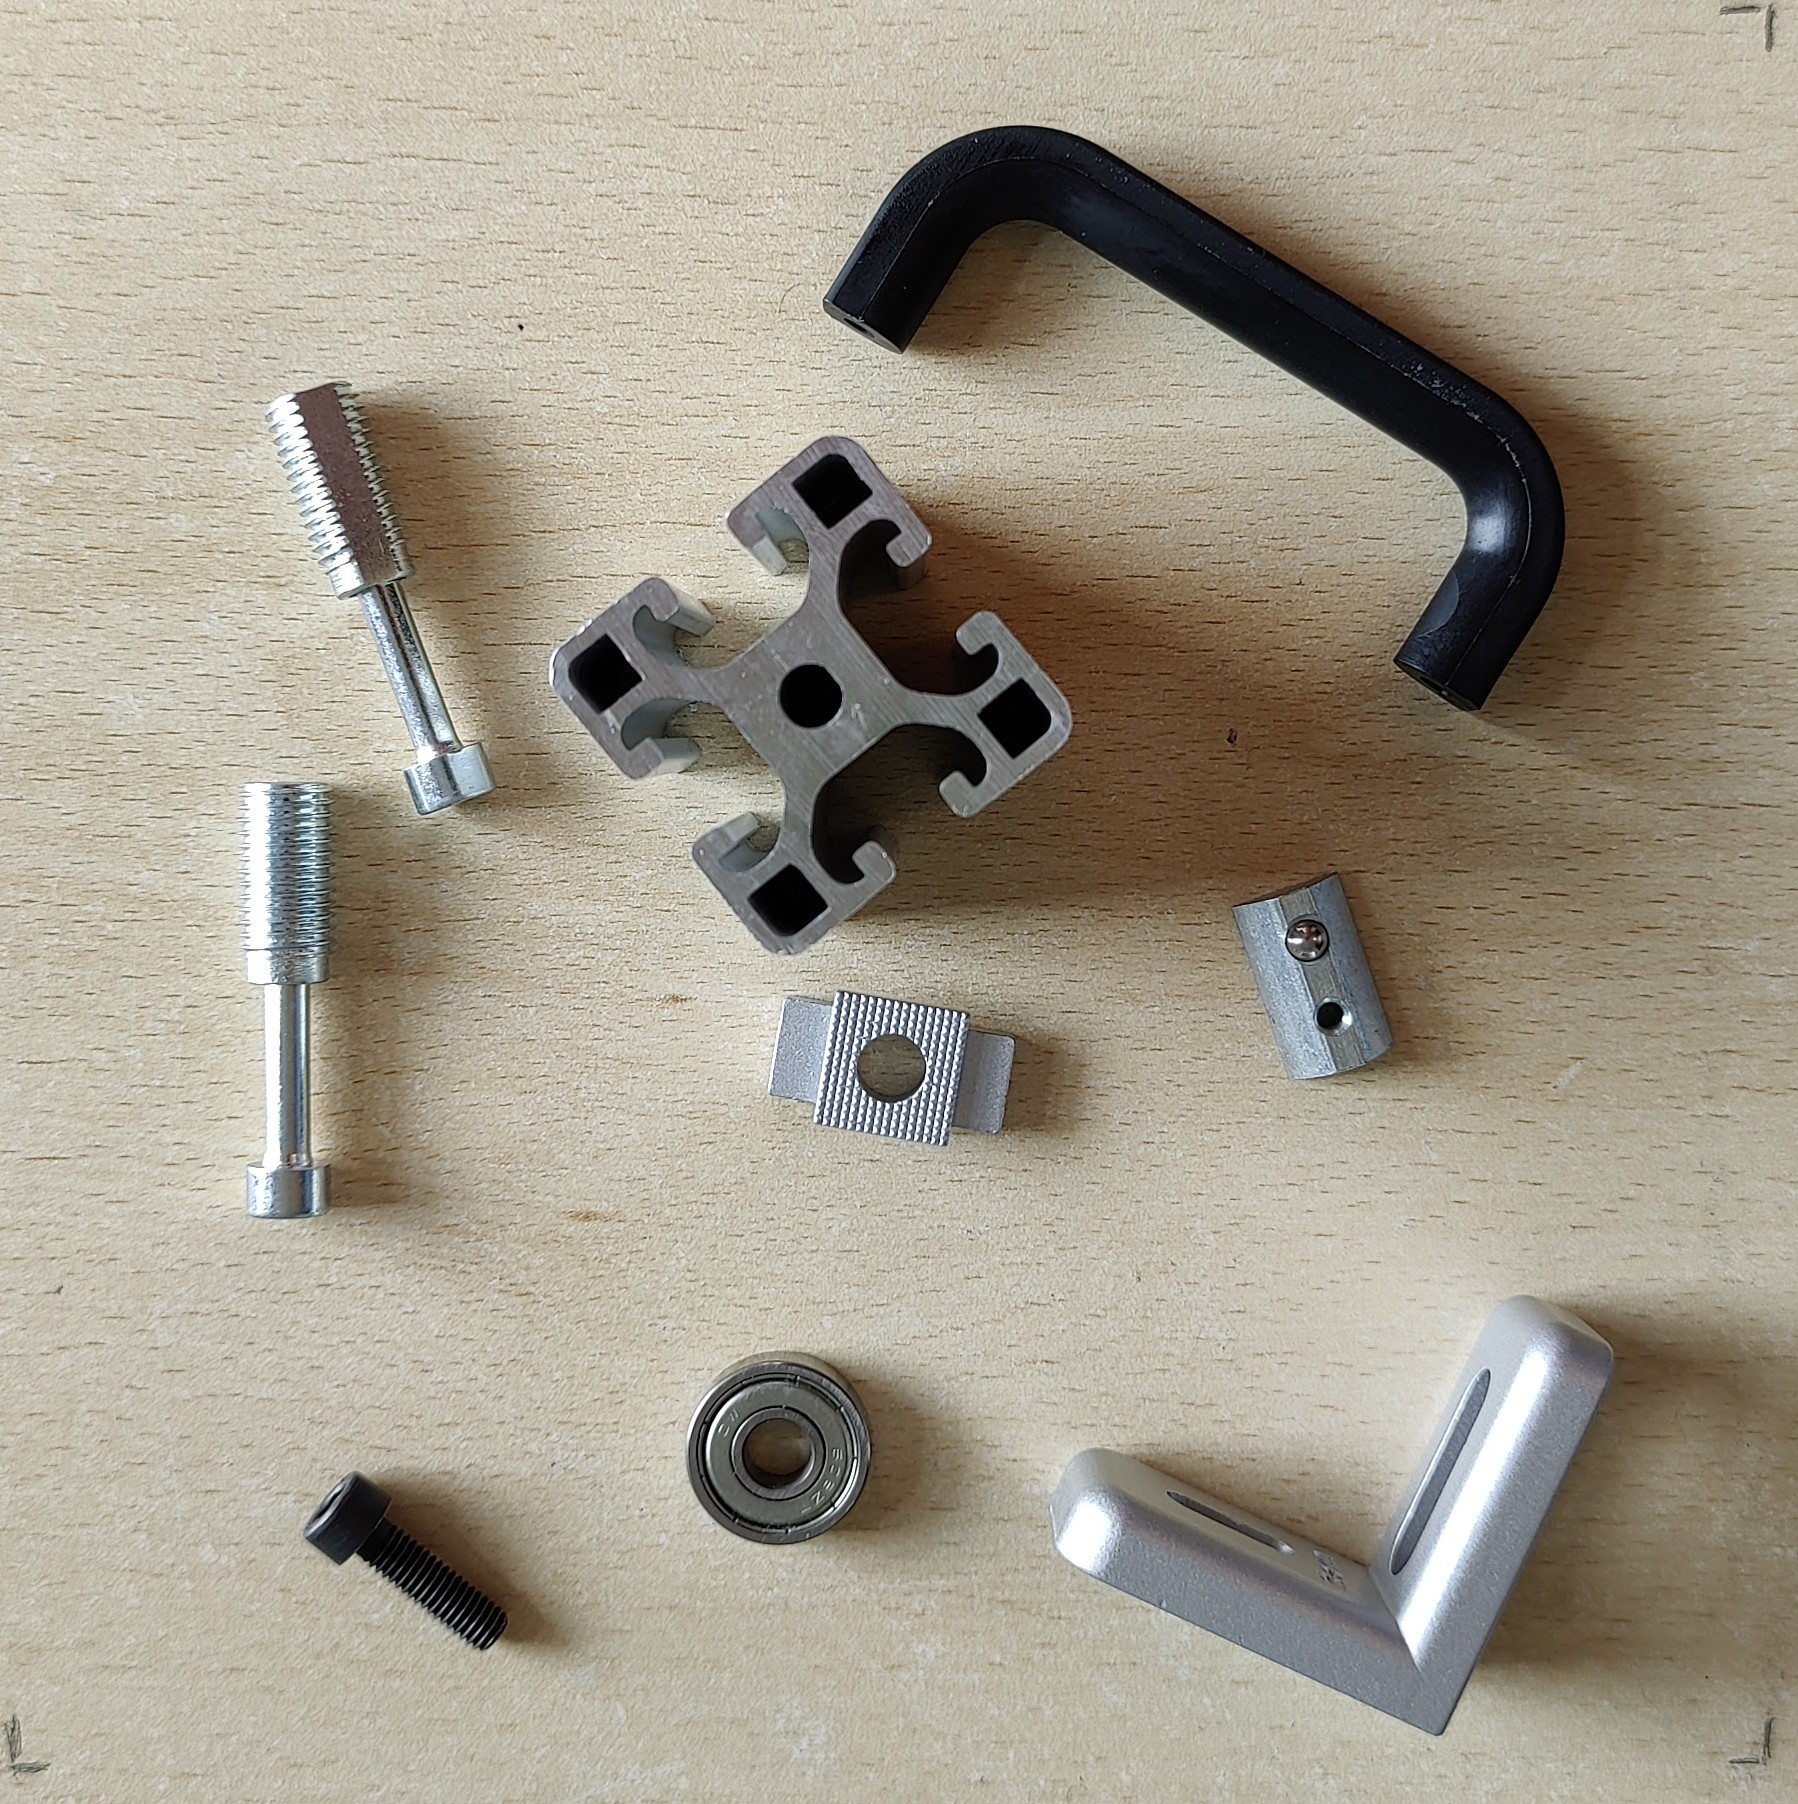Aluminium Extension: (547, 431, 1075, 960)
Ball Bearing: (685, 1350, 878, 1547)
Multiwinkel: (1046, 1294, 1619, 1738)
Pull Handle: (822, 122, 1567, 714)
Shoulder Socket Head Cap Screw: (262, 374, 497, 820), (237, 779, 336, 1223)
Socket Head Cap Screw: (300, 1468, 510, 1654)
T Nut Square: (767, 986, 1021, 1151)
T Spring Nut: (1228, 867, 1393, 1081)
